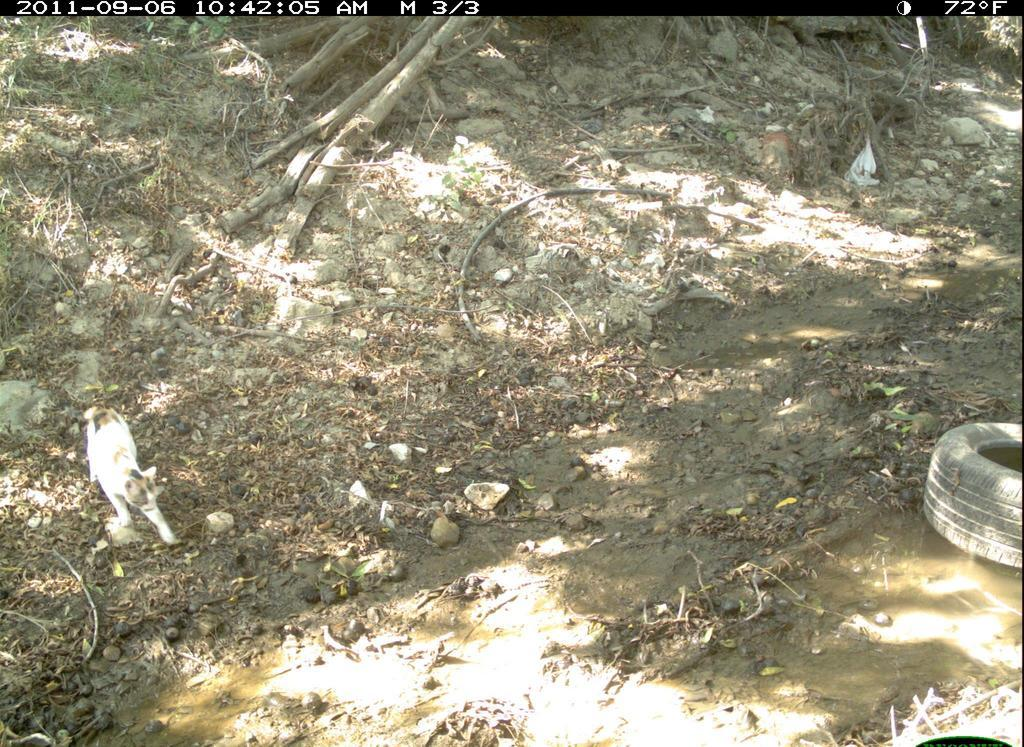cat: (68, 395, 199, 566)
